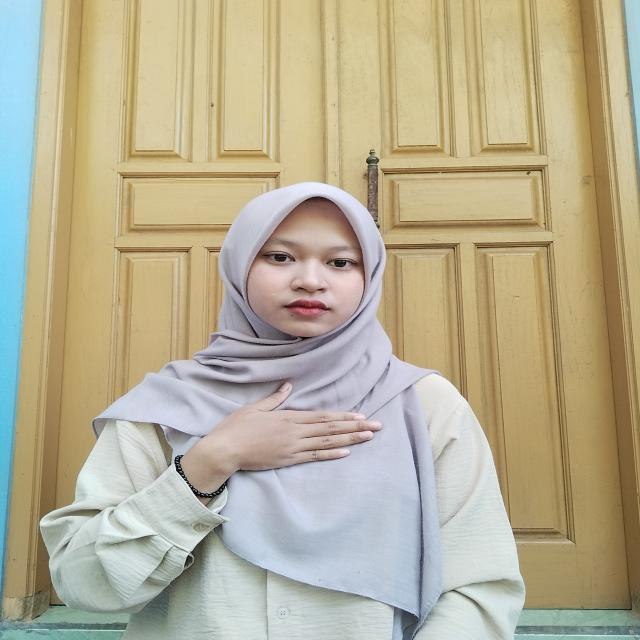tolong: (168, 378, 393, 505)
